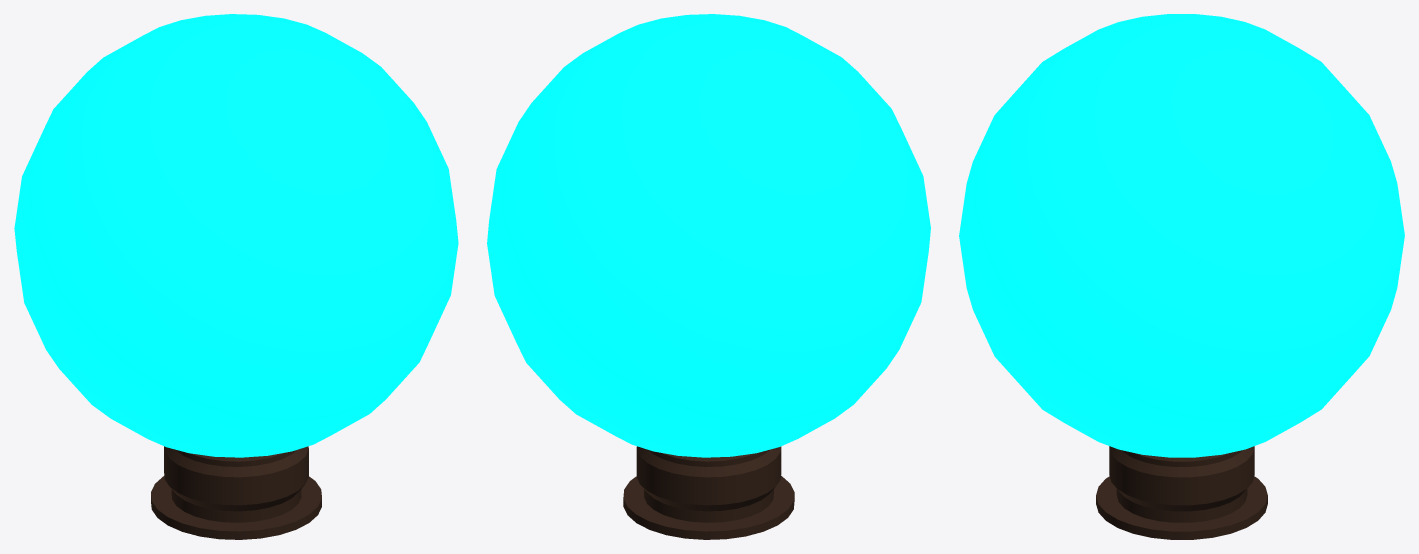
The model's file is Chrystal Ball.fbx.
3 views of the same model, side by side, from view 1: azimuth 30°, elevation 25°; view 2: azimuth 150°, elevation 25°; view 3: azimuth 270°, elevation 25° (orthographic).
Parts seen in each view (by area): view 1: Crystal Ball.001; view 2: Crystal Ball.001; view 3: Crystal Ball.001.
Part boxes in pixels (<box>): Crystal Ball.001: <box>14,14,458,539</box>; Crystal Ball.001: <box>487,14,930,539</box>; Crystal Ball.001: <box>959,14,1404,539</box>.
Size of the model in its own units: 65.97 by 77.3 by 66.44.
